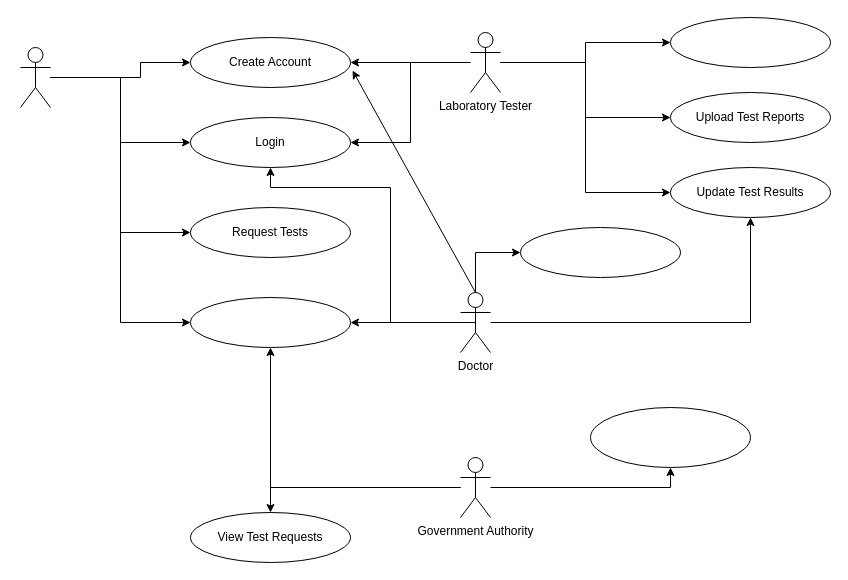
The diagram is 848 pixels wide and 580 high, and some of its shapes have lost their labels. The box of each missing label's shape, as (x1, y1, x2, y2) in pixels:
Assign Technician for Visit: (670, 16, 830, 68)
Assign Test Request to Himself: (520, 226, 680, 278)
Patient: (20, 46, 50, 108)
View Analytic Reports & Assign area as Red /Green / Yellow: (590, 406, 750, 468)
View Test Reports: (190, 296, 350, 348)
